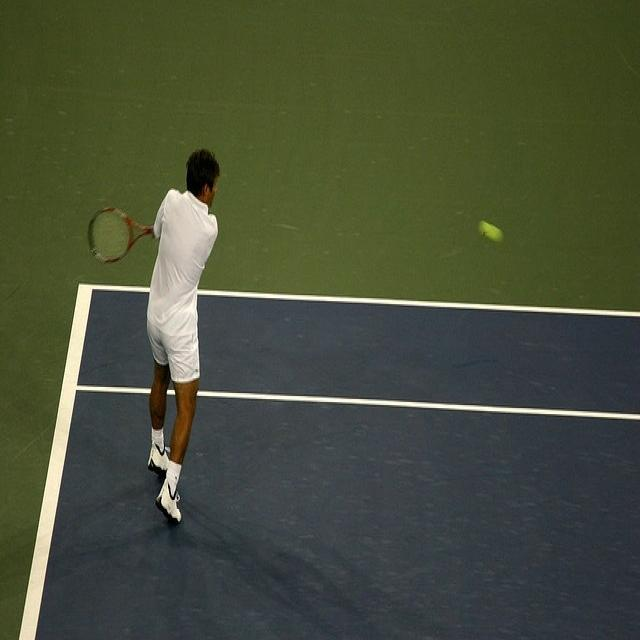ball: (477, 218, 503, 242)
